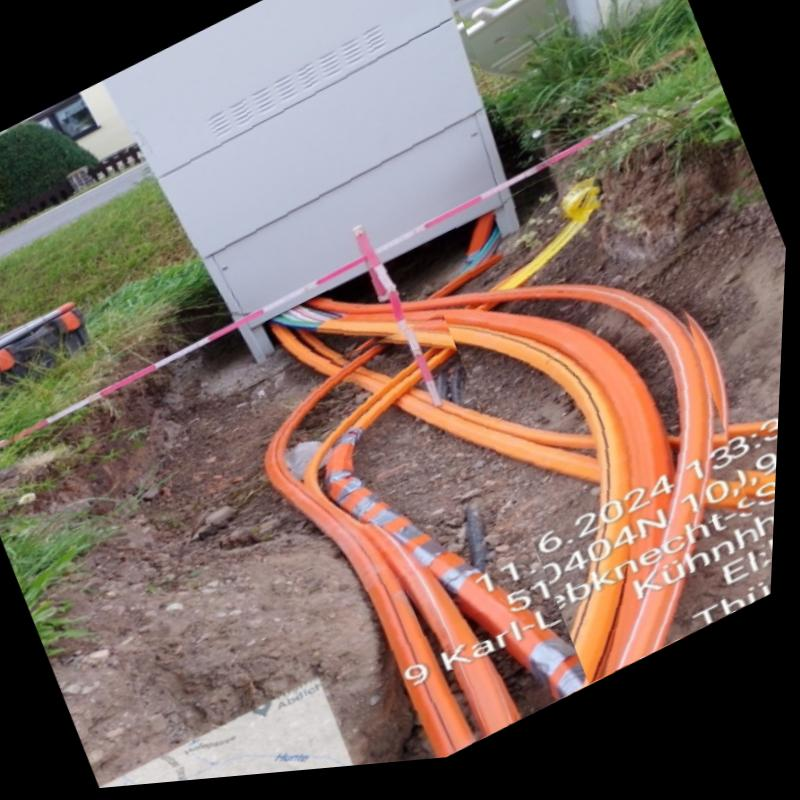NT-Gehause: (102, 0, 503, 323)
Orang-Speednetrohrchen: (272, 300, 718, 716), (269, 346, 593, 766)
